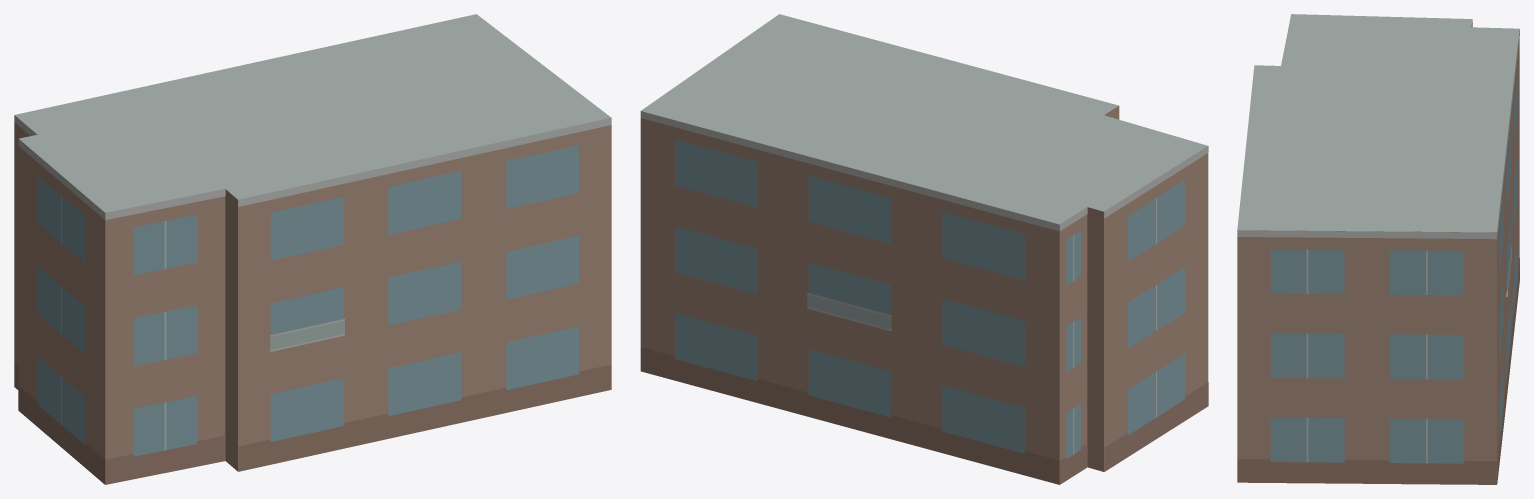
The model's file is survey-upis-32711460.glb.
The picture shows the model from 3 angles, left to right: view 1: azimuth 30°, elevation 25°; view 2: azimuth 150°, elevation 25°; view 3: azimuth 270°, elevation 25°; orthographic projection. The views are drawn at different scales.
Parts seen in each view (by area): view 1: survey-upis-32711460.tmp; view 2: survey-upis-32711460.tmp; view 3: survey-upis-32711460.tmp.
Boxes of the visible parts, x1,y1,x2,y2 form: survey-upis-32711460.tmp: (14, 14, 611, 484); survey-upis-32711460.tmp: (640, 14, 1208, 484); survey-upis-32711460.tmp: (1237, 14, 1519, 484).
Size of the model in its own units: 16.99 by 9.15 by 9.29.
